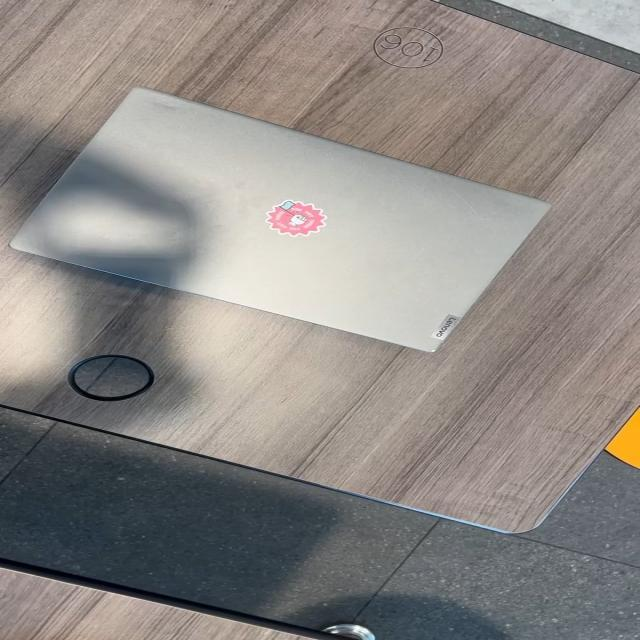laptop: (8, 85, 552, 353)
